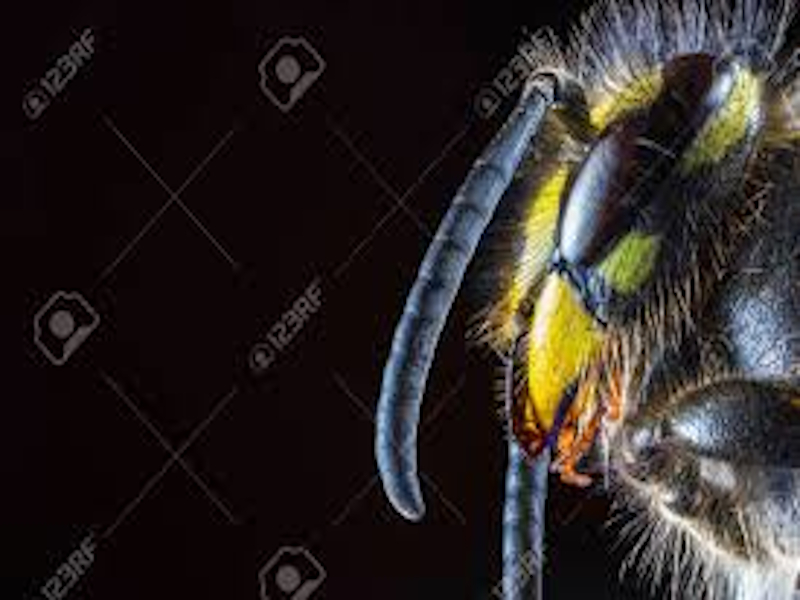chax: (332, 38, 800, 504)
